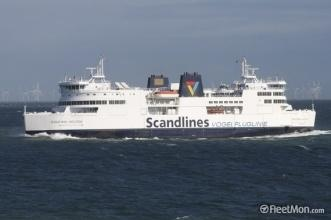youlun: (15, 46, 322, 140)
